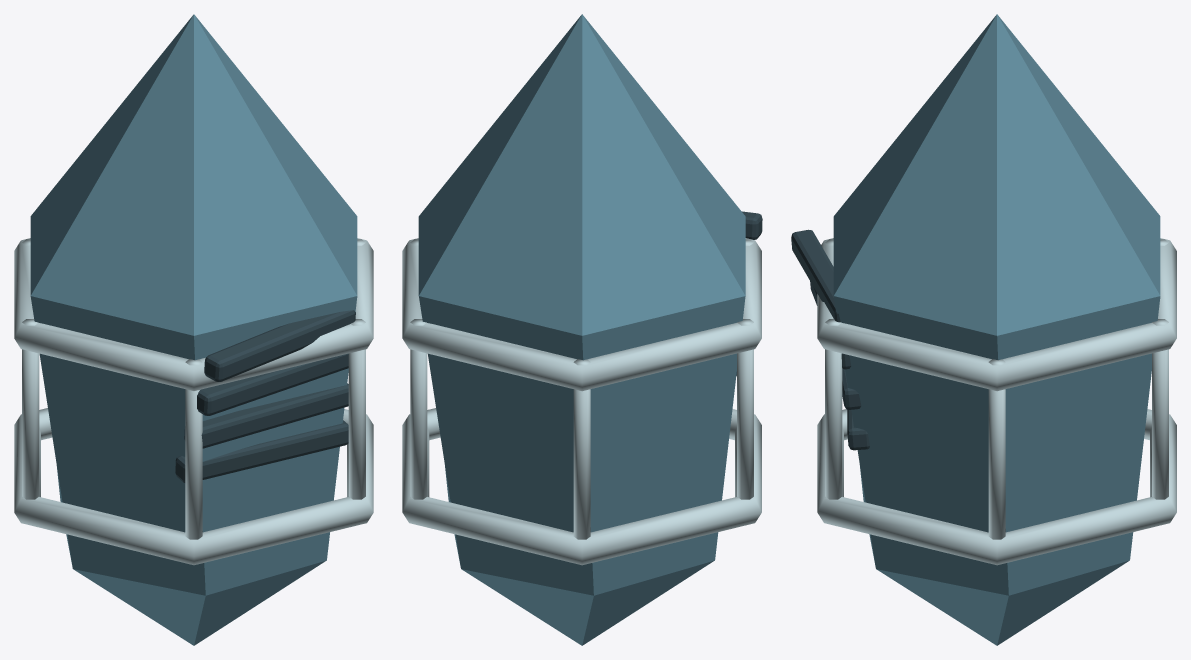
The model's file is note-crystal.glb.
The picture shows the model from 3 angles, left to right: view 1: azimuth 30°, elevation 25°; view 2: azimuth 150°, elevation 25°; view 3: azimuth 270°, elevation 25°; orthographic projection.
Parts seen in each view (by area): view 1: body_hull.004, body_ceramic.004, body_dark.004; view 2: body_hull.004, body_ceramic.004; view 3: body_hull.004, body_ceramic.004, body_dark.004.
Part boxes in pixels (x1,y1,x2,y2): body_hull.004: [30, 14, 357, 645]; body_ceramic.004: [14, 238, 373, 565]; body_dark.004: [175, 310, 355, 482]; body_hull.004: [418, 14, 745, 645]; body_ceramic.004: [402, 238, 761, 565]; body_hull.004: [833, 14, 1160, 645]; body_ceramic.004: [817, 238, 1176, 565]; body_dark.004: [791, 229, 869, 450].
Size of the model in its own units: 1.19 by 2 by 1.11.
